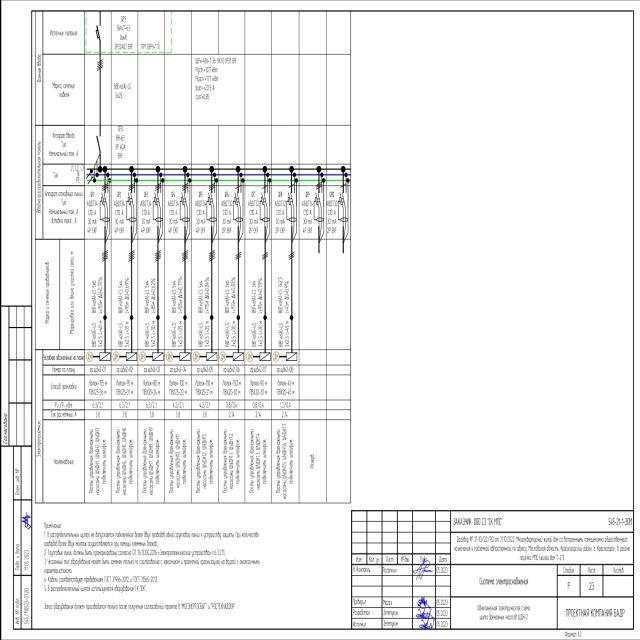-: (272, 199, 286, 235), (218, 199, 232, 235), (324, 200, 338, 236), (84, 198, 98, 234), (193, 198, 206, 234), (166, 198, 179, 234), (245, 198, 258, 234), (111, 200, 124, 236), (138, 198, 151, 234), (111, 134, 128, 161), (193, 56, 237, 66), (300, 198, 312, 234)
QFD: (284, 190, 296, 222), (258, 191, 270, 223), (98, 191, 110, 223), (336, 190, 348, 222), (312, 191, 324, 223), (231, 191, 243, 223), (151, 190, 163, 222), (178, 190, 190, 222), (205, 190, 217, 222), (125, 191, 136, 223)
QS: (94, 130, 103, 150)
